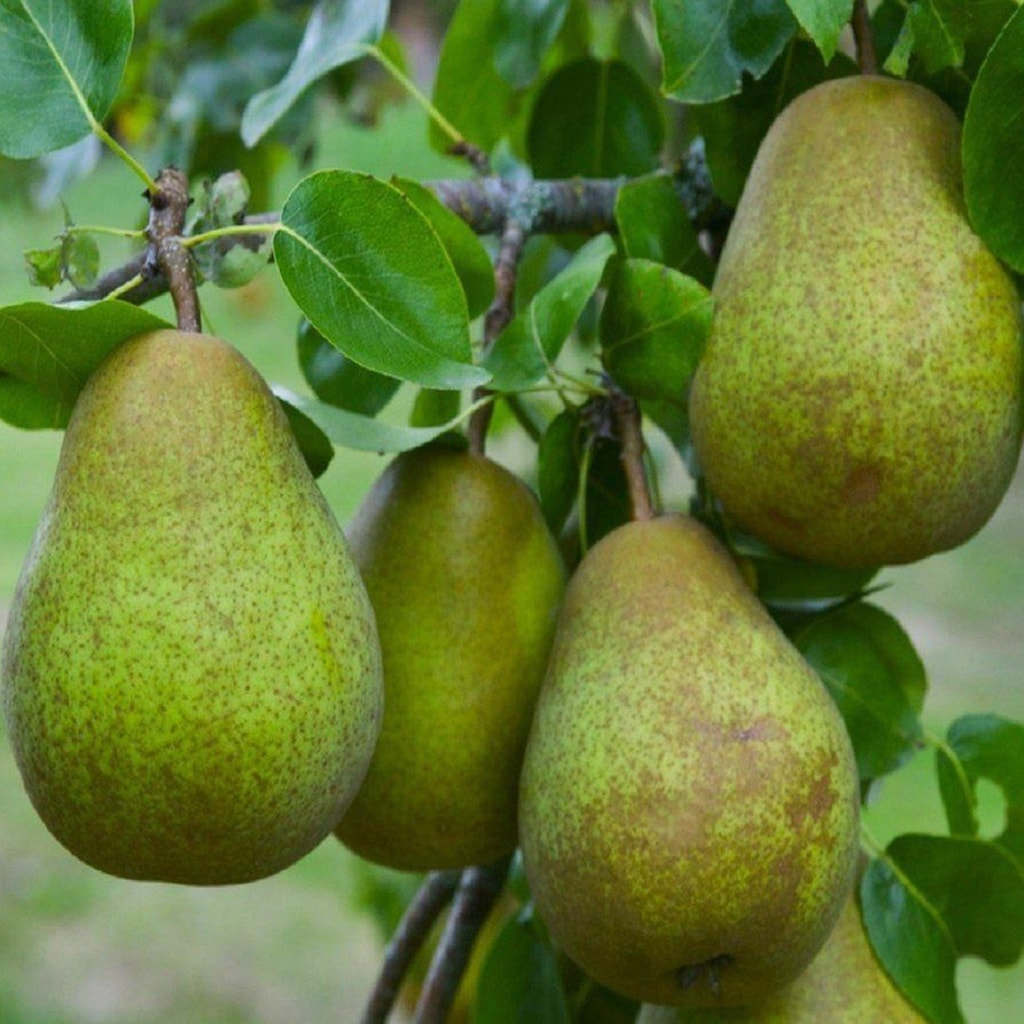pear: (11, 326, 563, 878), (463, 488, 987, 1012), (575, 96, 1024, 545)
